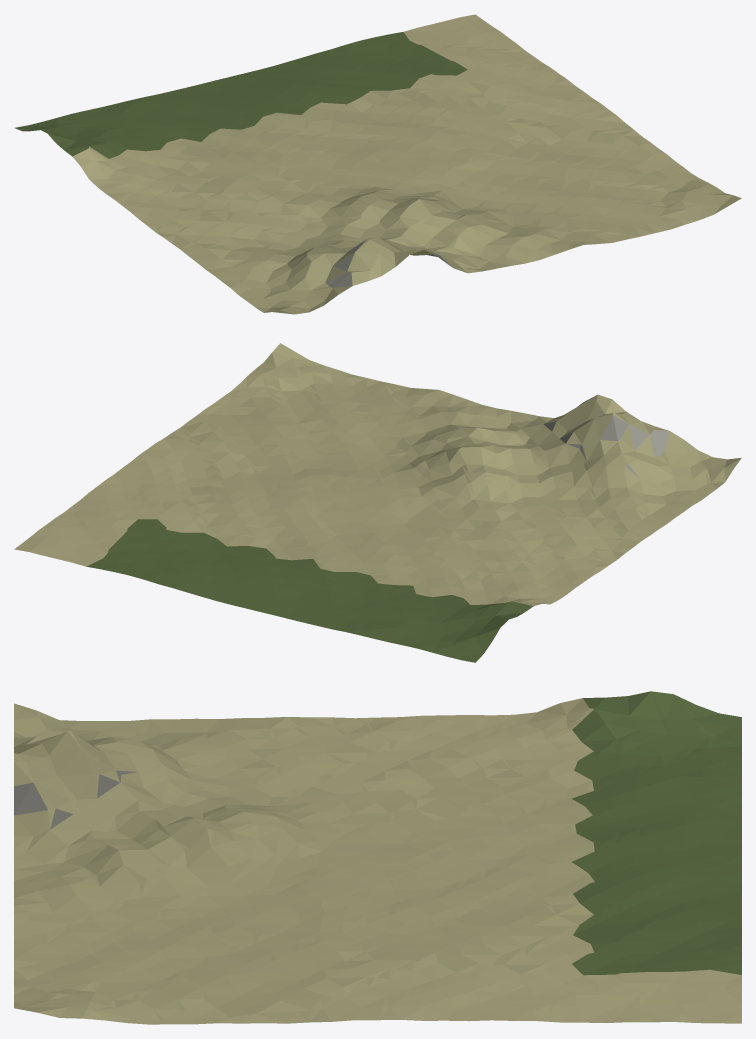
File: Ground_-2_-3.glb
The picture shows the model from 3 angles, top to bottom: view 1: azimuth 30°, elevation 25°; view 2: azimuth 150°, elevation 25°; view 3: azimuth 270°, elevation 25°; orthographic projection. The views are drawn at different scales.
Parts seen in each view (by area): view 1: Ground_-2_-3; view 2: Ground_-2_-3; view 3: Ground_-2_-3.
Part boxes in pixels (box(x1,y1,x2,y2)): Ground_-2_-3: box(15, 14, 741, 314); Ground_-2_-3: box(14, 343, 741, 662); Ground_-2_-3: box(14, 691, 741, 1024).
Bounding box in the file's own units: 768 × 72.53 × 768.
